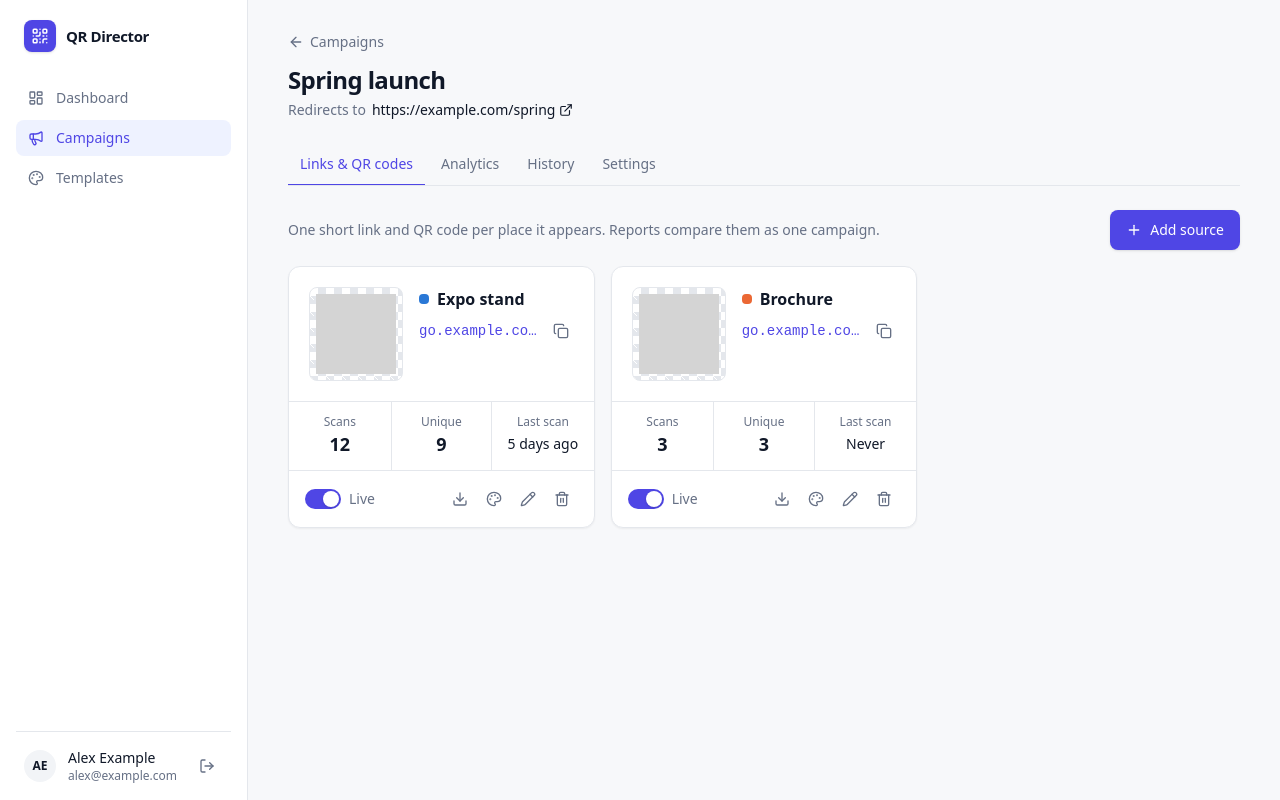
Test: campaigns › shows sources and pauses one
The width and height of the screenshot is (1280, 800).
Expected: the heading "Expo stand" is shown, [437,287,525,311]
Expected: the heading "Brochure" is shown, [760,287,833,311]
Click the switch named "Brochure active".
click(646, 499)  # box [628,489,664,509]
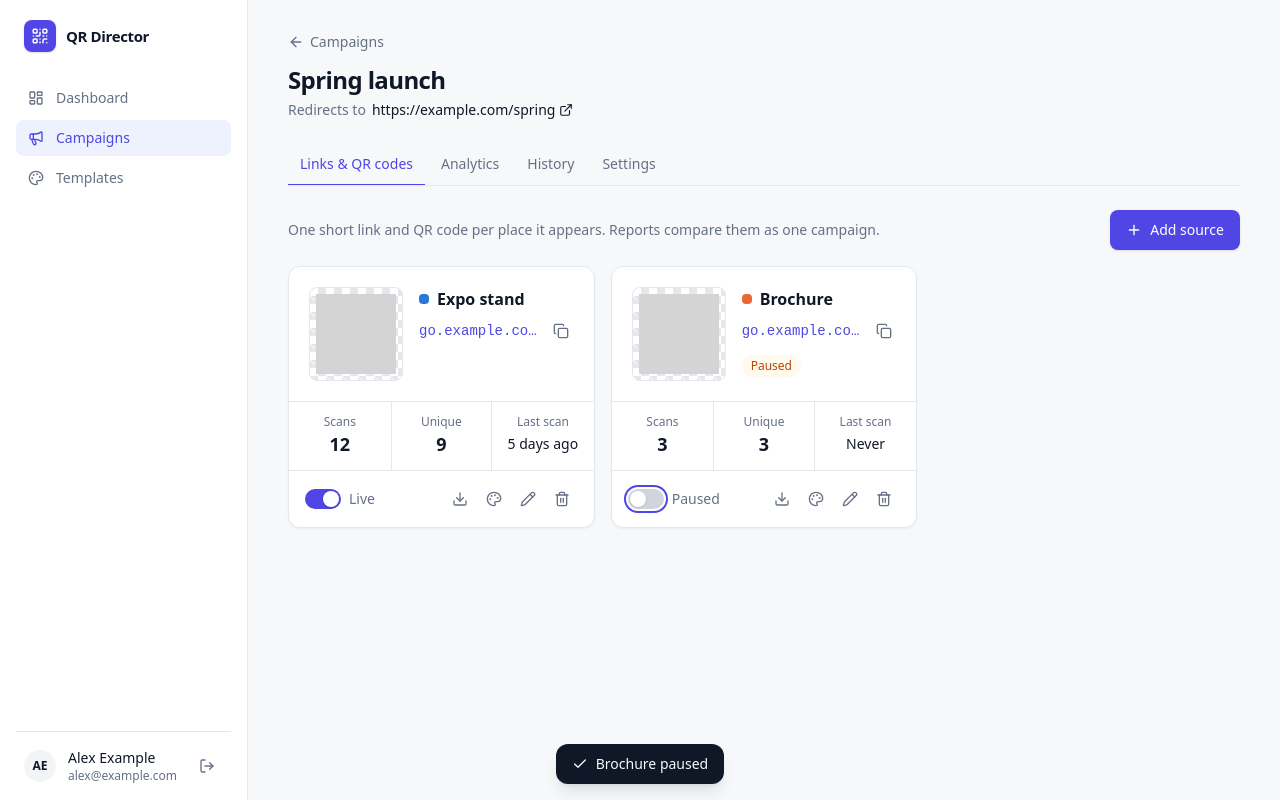
Now the text "Paused" is shown, box [742,355,801,377]
